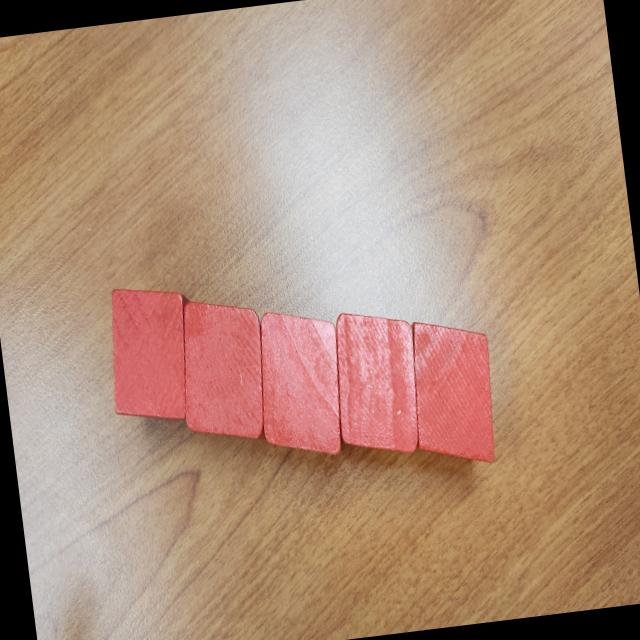red: (248, 304, 352, 466), (324, 304, 430, 462), (401, 312, 503, 472), (171, 292, 275, 448), (100, 279, 204, 427)
